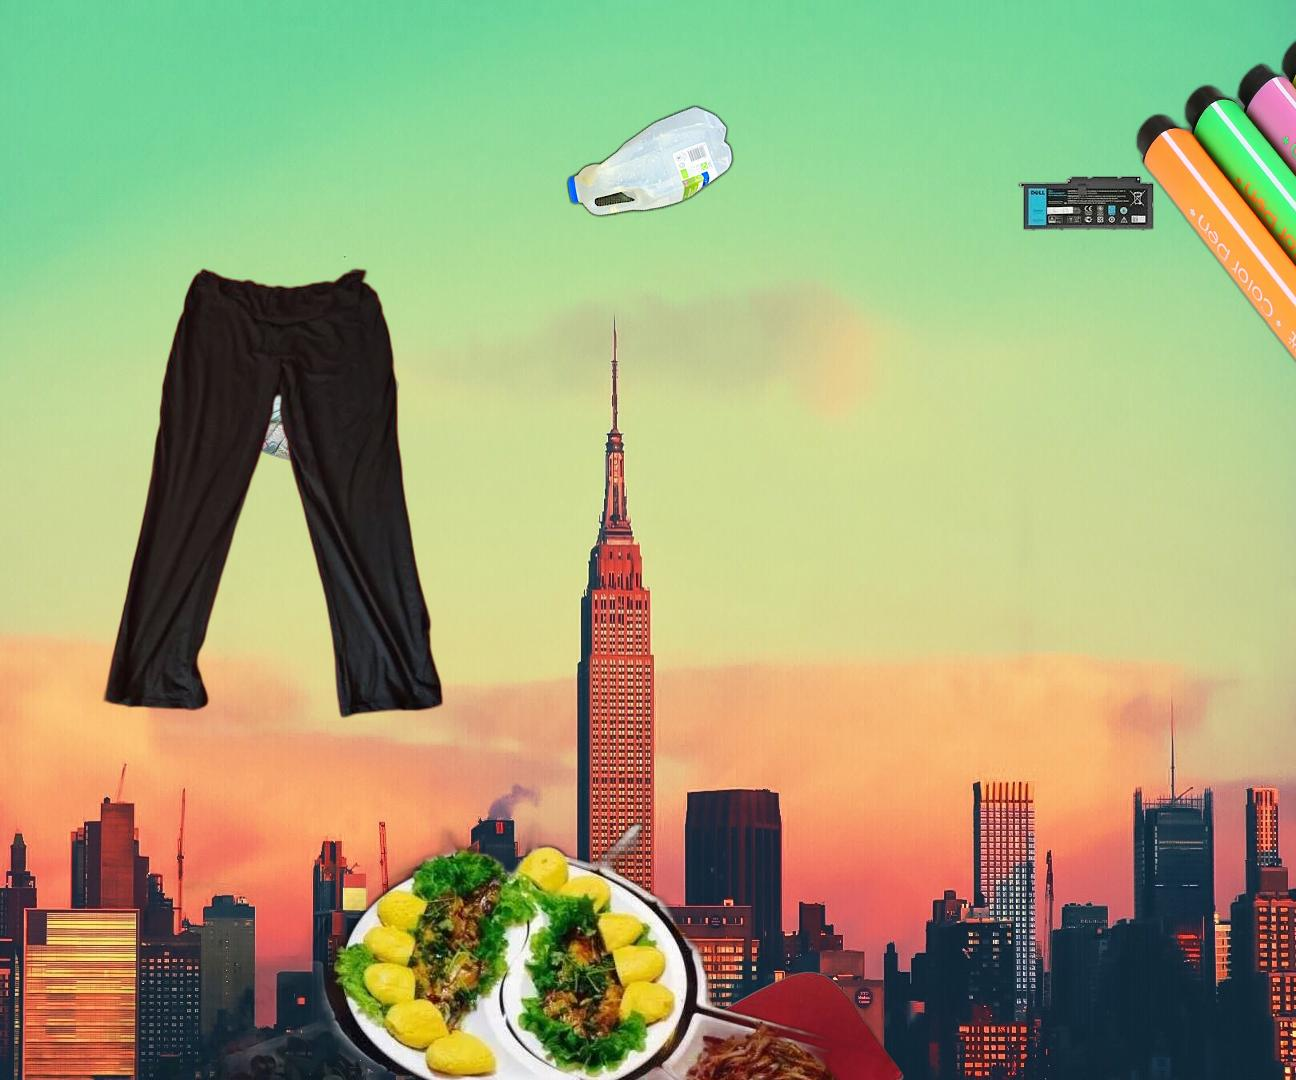battery: (1016, 173, 1156, 233)
biological: (103, 727, 903, 1080)
clothes: (101, 264, 445, 744)
paper: (443, 969, 955, 1080)
penholder: (1129, 4, 1296, 525)
plastic-bottles: (563, 101, 738, 222)
trash: (234, 331, 402, 479)
